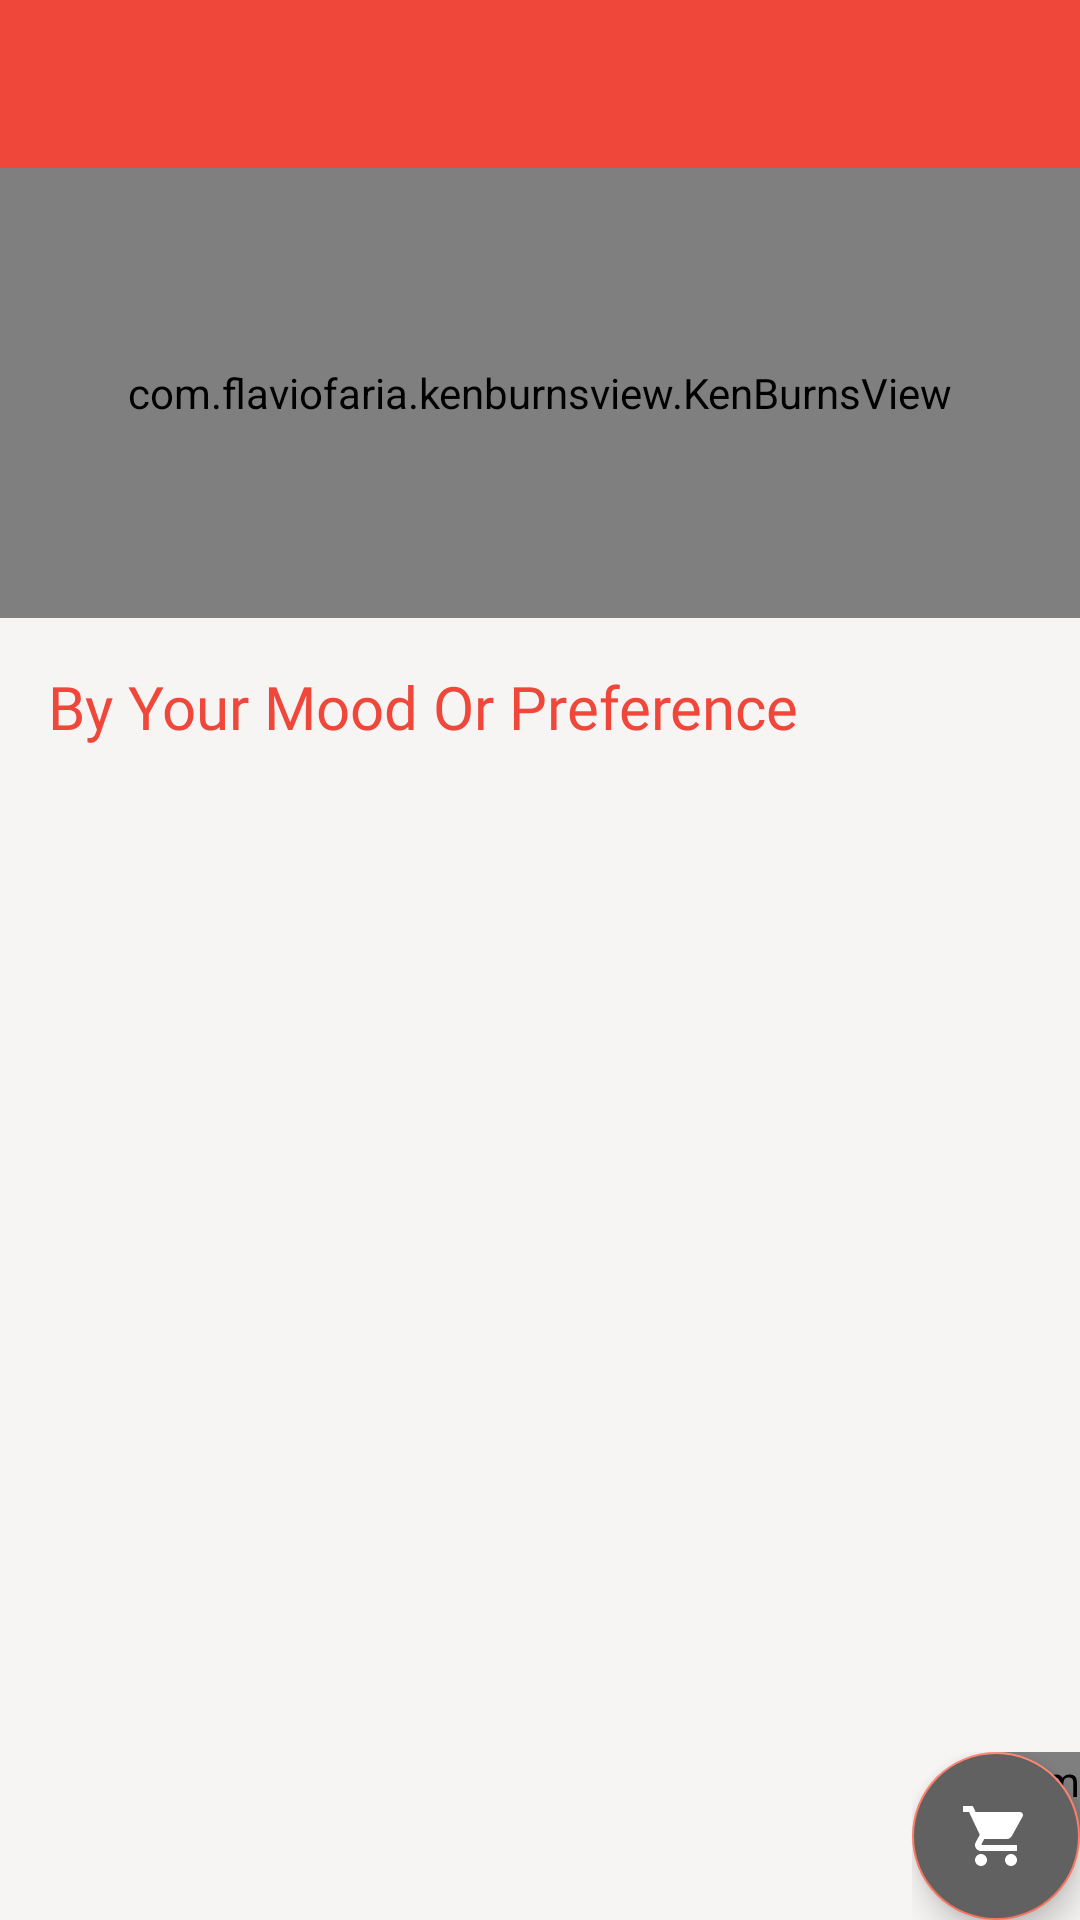

Icons on this 1080×1920 Android screen, each with the point to tap as (x,y):
shopping cart: (996,1836)
